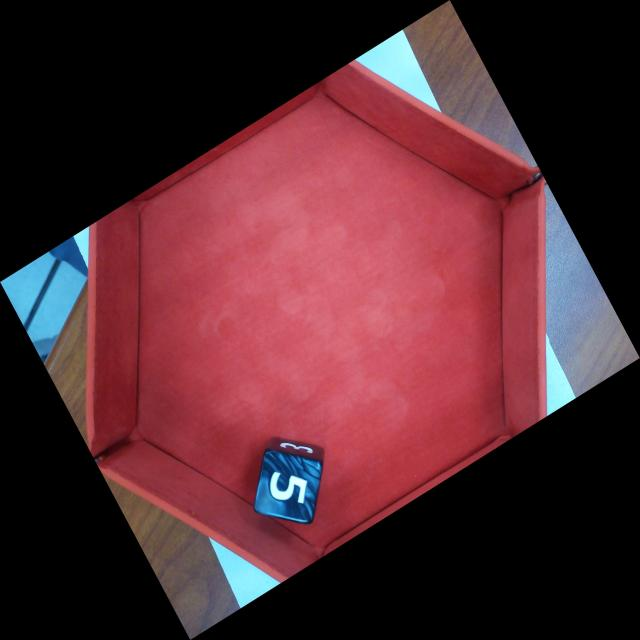dice: (252, 447, 324, 526)
